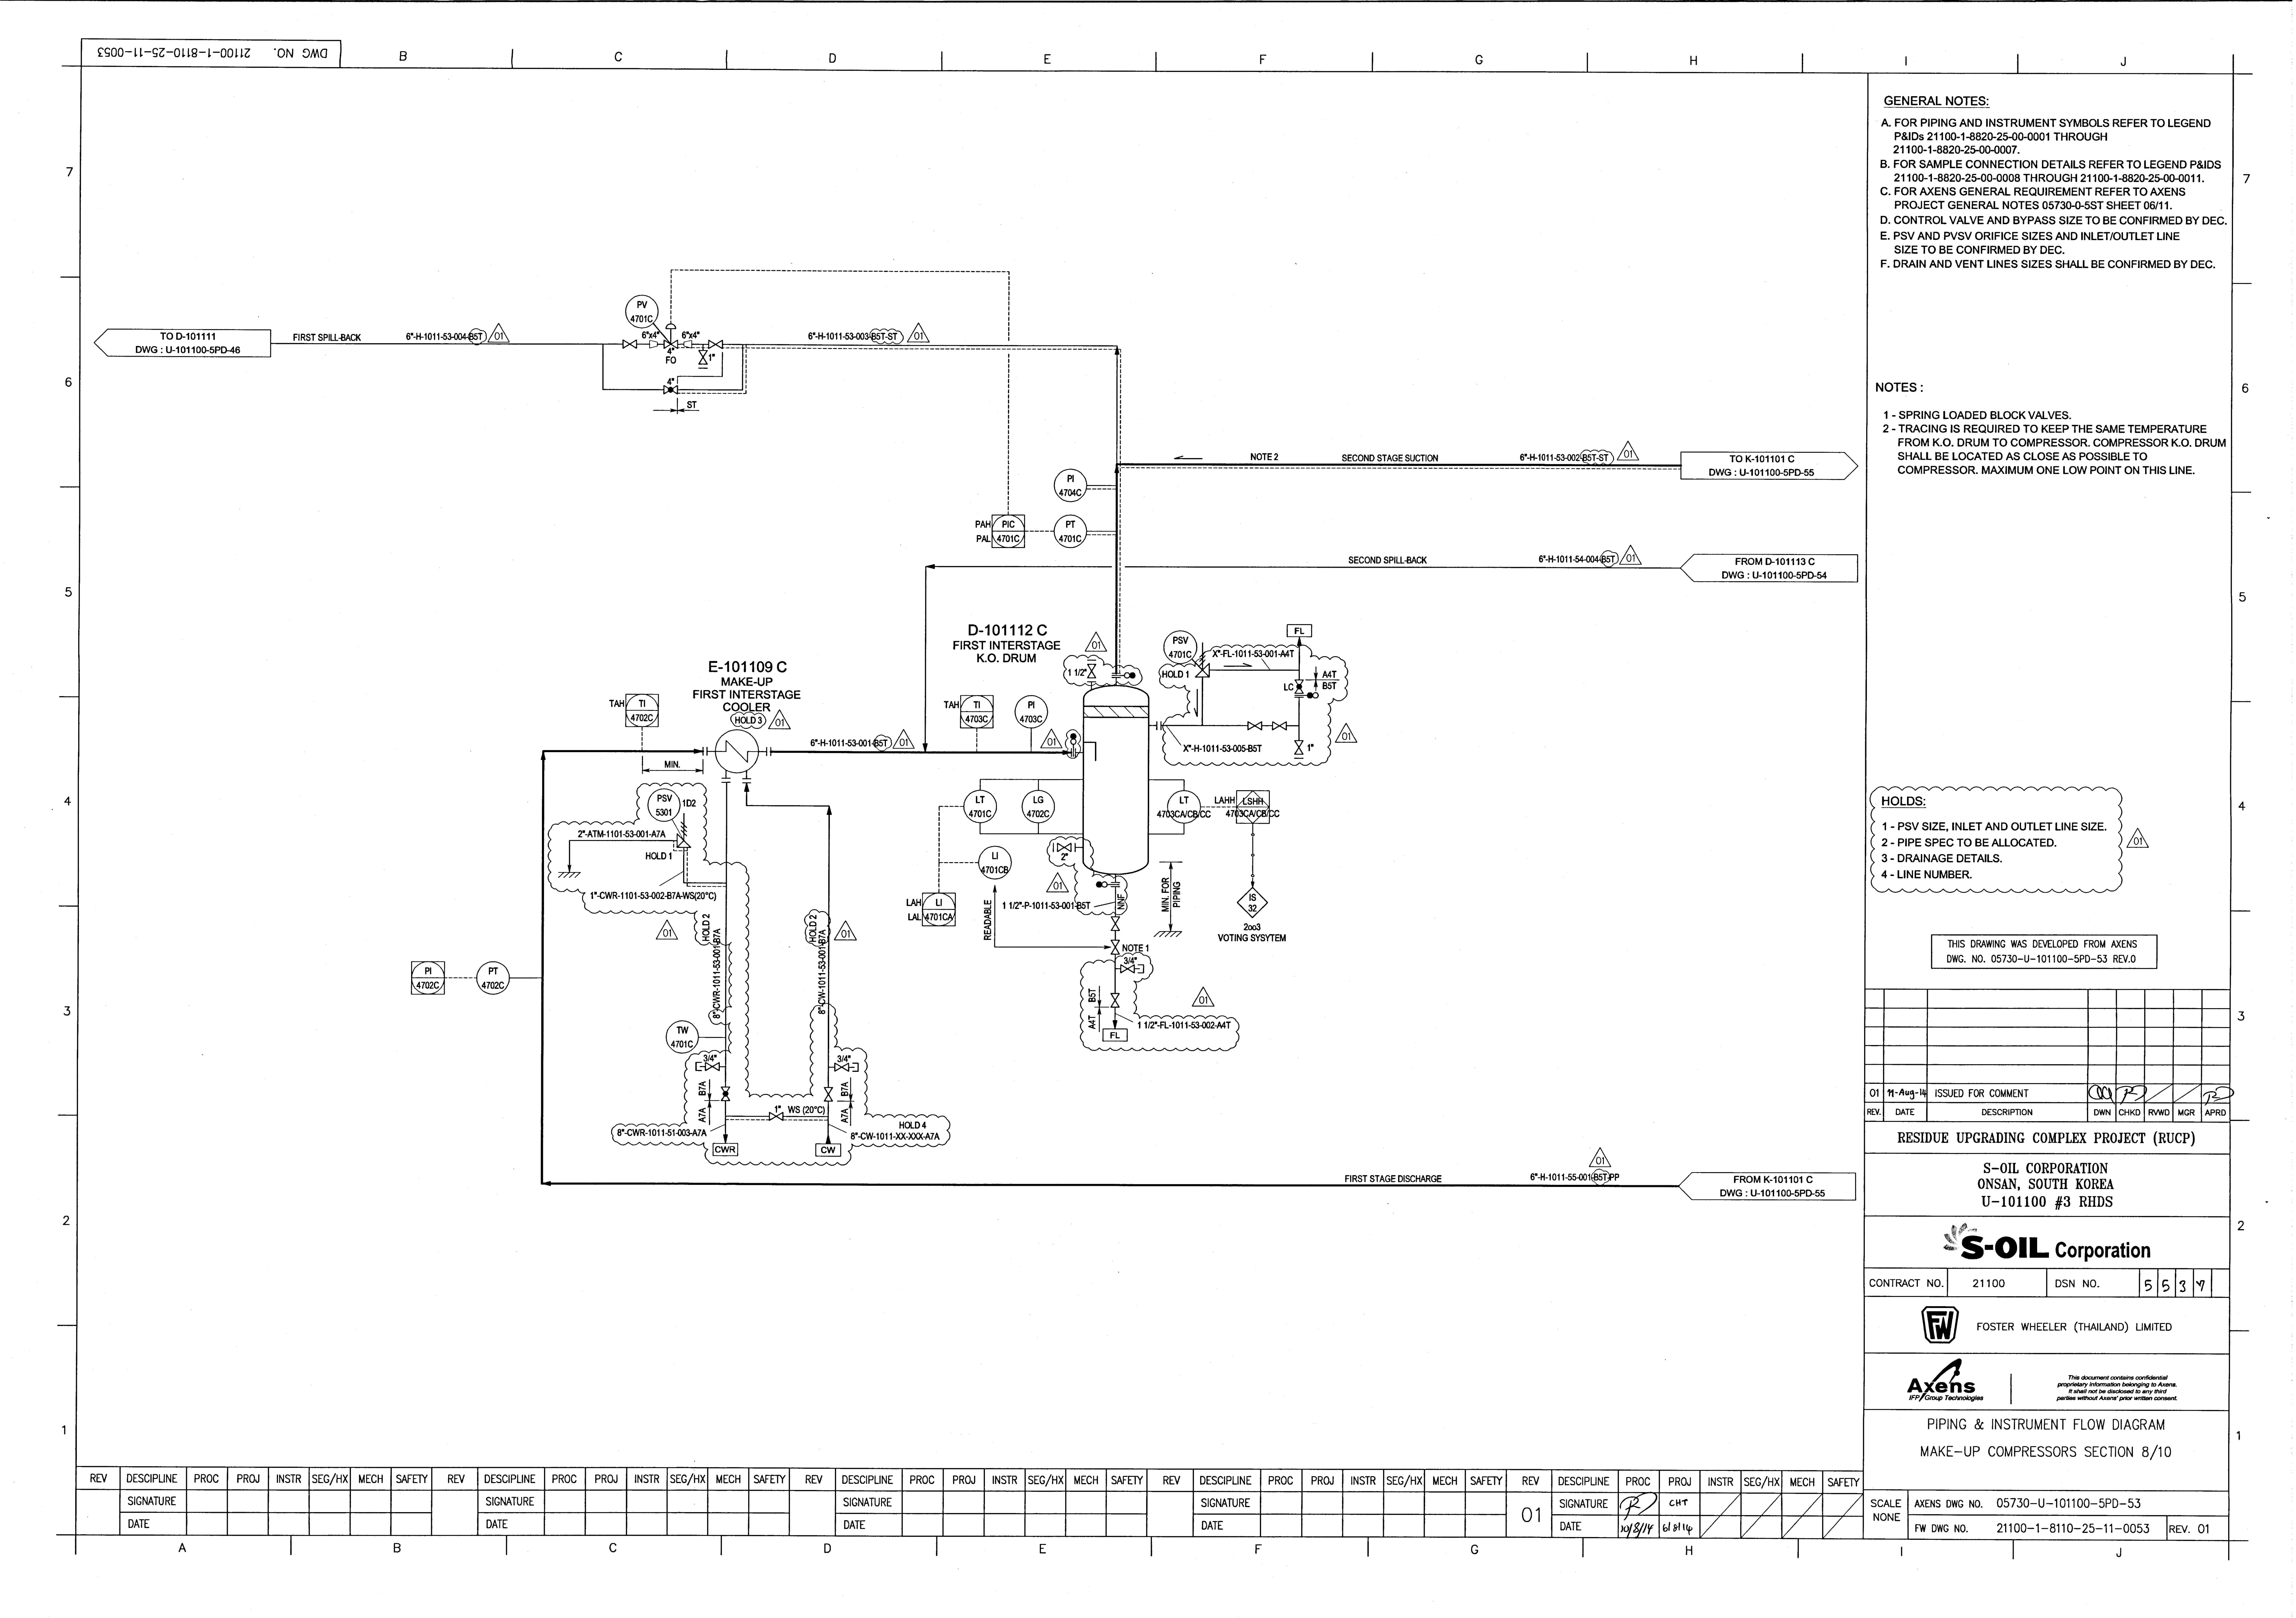NAS: (1061, 728, 1082, 762), (711, 1142, 741, 1159), (813, 1143, 844, 1159), (1089, 739, 1102, 762), (1196, 664, 1212, 681), (1068, 732, 1079, 758), (676, 832, 692, 849), (692, 746, 713, 758), (694, 891, 718, 902), (708, 1009, 723, 1024), (1152, 720, 1168, 734), (1247, 872, 1261, 886), (1194, 669, 1208, 679), (762, 746, 776, 756), (669, 406, 685, 415), (1306, 692, 1321, 700), (786, 1105, 800, 1114), (802, 1089, 816, 1098), (1095, 881, 1109, 890), (1109, 881, 1123, 890), (687, 399, 697, 410), (781, 1093, 797, 1100), (564, 865, 574, 876), (851, 1061, 860, 1073), (720, 776, 732, 784), (758, 1093, 772, 1100), (739, 777, 753, 784), (1233, 802, 1243, 811), (1247, 818, 1257, 827), (1070, 734, 1077, 746), (1249, 788, 1257, 797), (1166, 862, 1175, 870), (1264, 802, 1271, 811)
butterfly0: (662, 383, 680, 394)
butterfly90: (1294, 678, 1305, 695)
reduce0: (648, 338, 659, 348)
reduce180: (683, 340, 694, 350)
valvecontrol90: (664, 322, 680, 350)
valvedot90: (720, 1086, 732, 1101)
valvegate0: (620, 338, 639, 350), (708, 338, 725, 350), (1247, 720, 1264, 732), (1271, 720, 1289, 732), (704, 1061, 722, 1072), (767, 1112, 785, 1122), (834, 1061, 851, 1072), (1056, 842, 1072, 853), (1119, 963, 1135, 974)
valvegate90: (697, 348, 709, 366), (1109, 939, 1121, 956), (1109, 991, 1121, 1009), (823, 1086, 835, 1103), (1086, 662, 1098, 679), (1109, 916, 1121, 932), (1294, 739, 1305, 756)
